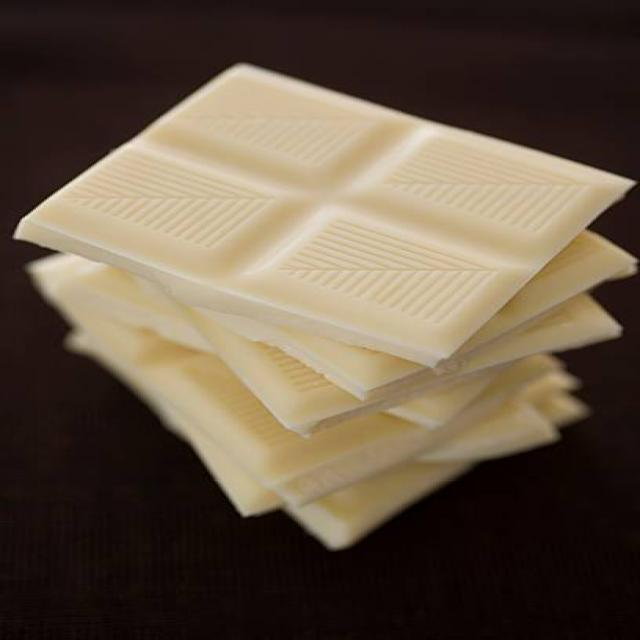Chocolate: (15, 64, 640, 557)
